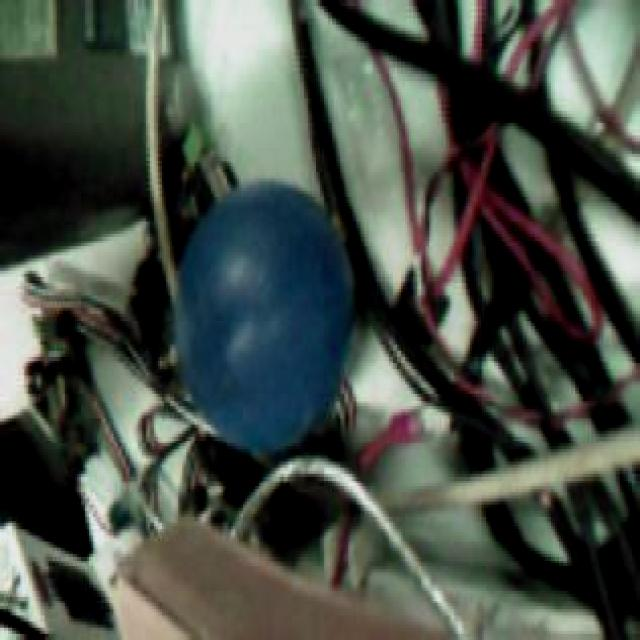BallPurple: (175, 181, 354, 447)
